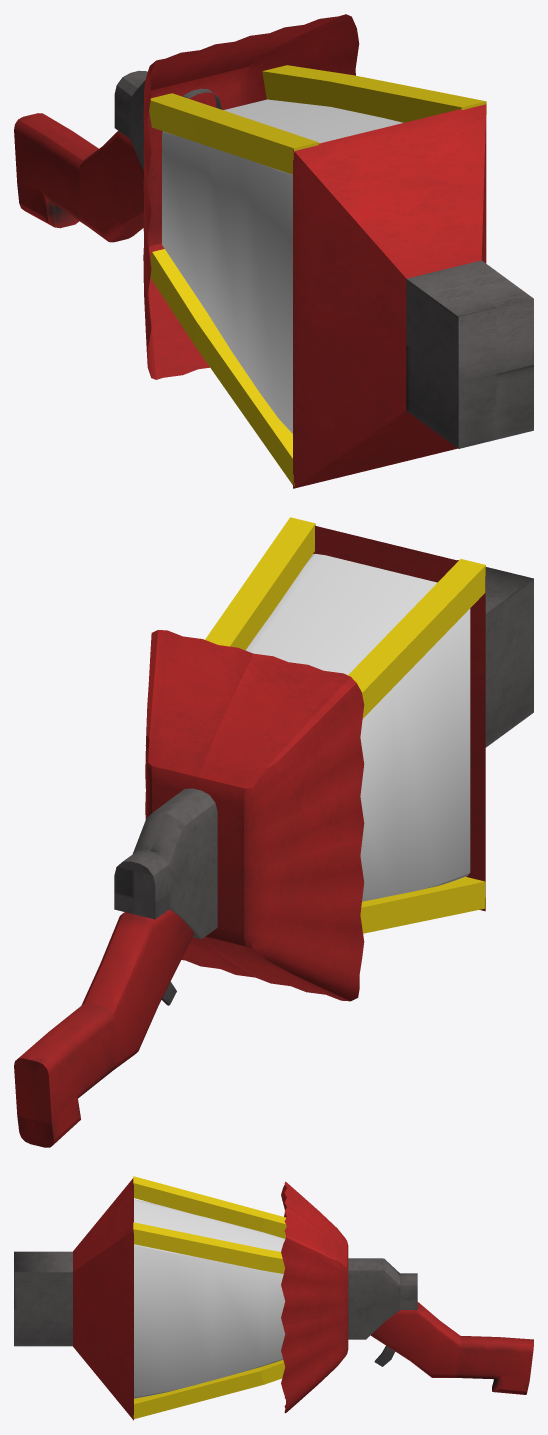
The model's file is PopConr_Gun.fbx.
3 renders of one model, top to bottom at view 1: azimuth 30°, elevation 25°; view 2: azimuth 150°, elevation 25°; view 3: azimuth 270°, elevation 25°, orthographic. The views are drawn at different scales.
Visible parts, largest first — view 1: Cube.006; view 2: Cube.006; view 3: Cube.006.
Boxes of the visible parts, left/top/right/bottom form: Cube.006: left=14, top=14, right=533, bottom=488; Cube.006: left=14, top=517, right=533, bottom=1147; Cube.006: left=14, top=1176, right=533, bottom=1420.
Bounding box in the file's own units: 23.39 × 36.66 × 90.09.
4 materials, 2 textured.
